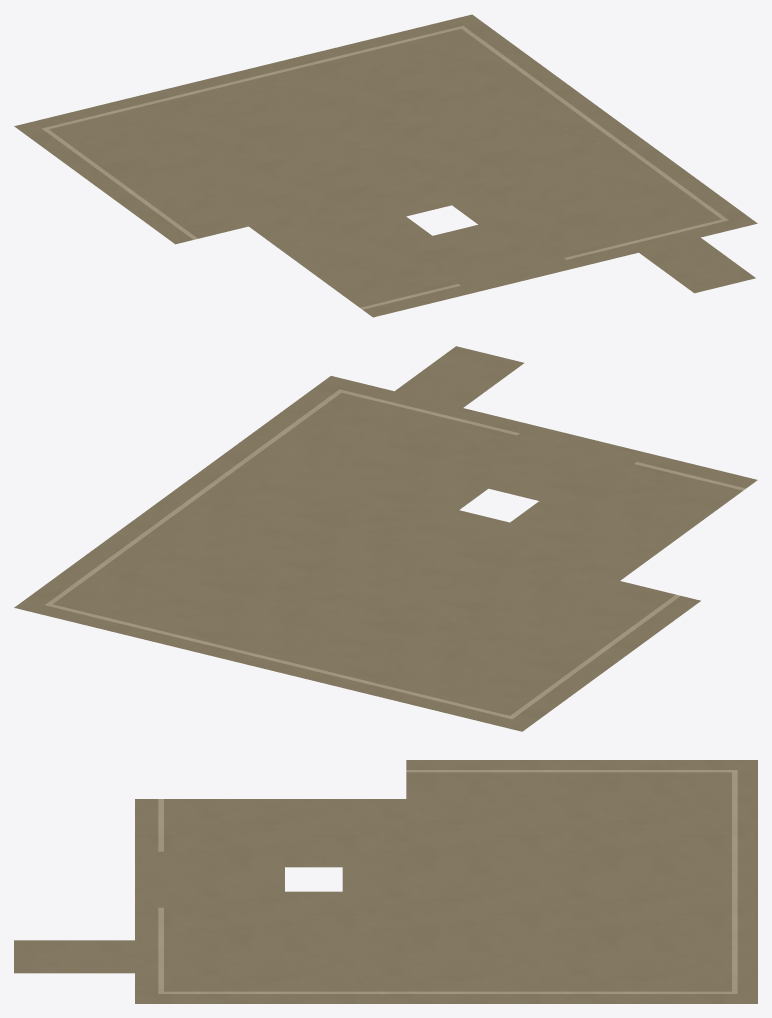
Rendered from Floor.fbx.
3 views of the same model, one above another, from view 1: azimuth 30°, elevation 25°; view 2: azimuth 150°, elevation 25°; view 3: azimuth 270°, elevation 25° (orthographic). The views are drawn at different scales.
Visible parts, largest first — view 1: Floor; view 2: Floor; view 3: Floor.
Boxes of the visible parts, x1=… form: Floor: x1=14, y1=14, x2=757, y2=317; Floor: x1=14, y1=346, x2=757, y2=731; Floor: x1=14, y1=760, x2=757, y2=1003.
Bounding box in the file's own units: 50 × 0.000546 × 64.5.
